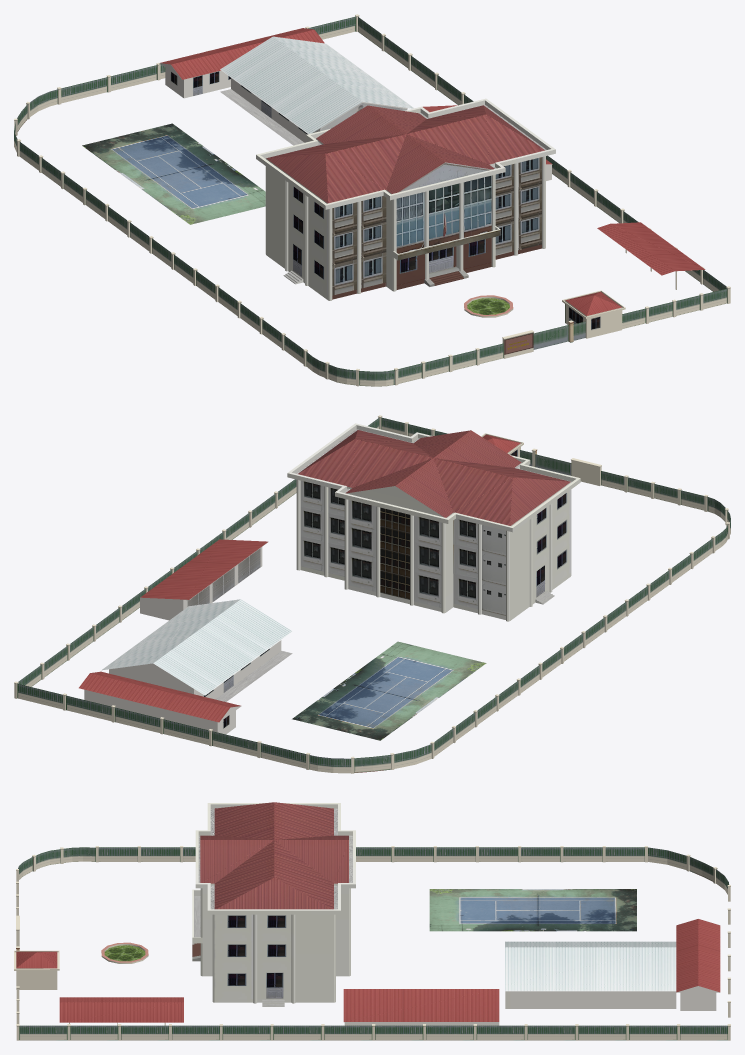
File: So Tai Chinh.glb
3 renders of one model, top to bottom at view 1: azimuth 30°, elevation 25°; view 2: azimuth 150°, elevation 25°; view 3: azimuth 270°, elevation 25°, orthographic. The views are drawn at different scales.
Visible parts, largest first — view 1: BPH065 NHA CHINH, BPH065 cong tuong, BPH065 NHA PHU; view 2: BPH065 NHA CHINH, BPH065 cong tuong, BPH065 NHA PHU; view 3: BPH065 cong tuong, BPH065 NHA CHINH, BPH065 NHA PHU.
Part boxes in pixels (x1,y1,x2,y2): BPH065 NHA CHINH: (256, 98, 555, 300); BPH065 cong tuong: (14, 14, 730, 386); BPH065 NHA PHU: (159, 28, 552, 180); BPH065 NHA CHINH: (287, 423, 580, 621); BPH065 cong tuong: (14, 415, 730, 773); BPH065 NHA PHU: (79, 539, 292, 734); BPH065 cong tuong: (14, 846, 730, 1040); BPH065 NHA CHINH: (192, 802, 355, 1006); BPH065 NHA PHU: (343, 919, 720, 1025).
Size of the model in its own units: 49.94 by 14.55 by 84.21.
Materials: 3 (3 with a texture image).
